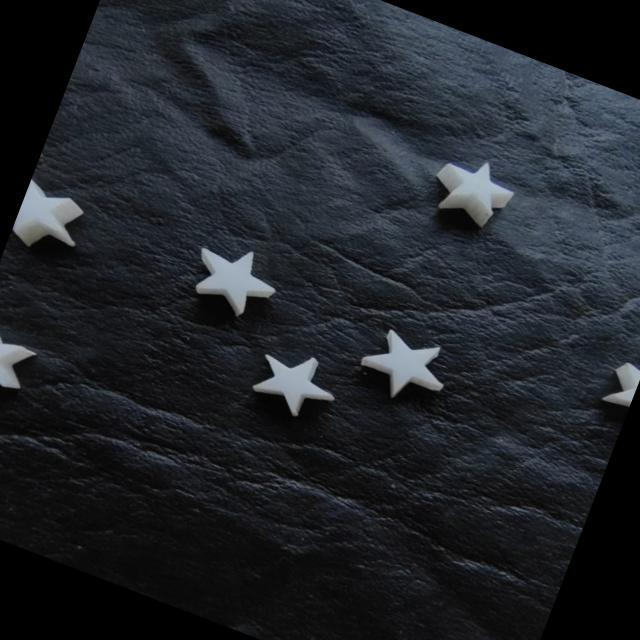estrellas: (196, 250, 272, 312), (369, 332, 440, 395), (256, 355, 328, 411), (451, 163, 512, 211)
